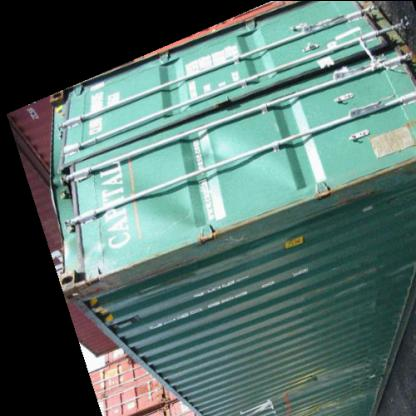Damage: (160, 105, 293, 243), (47, 84, 111, 300), (326, 247, 416, 322), (273, 354, 392, 390)
